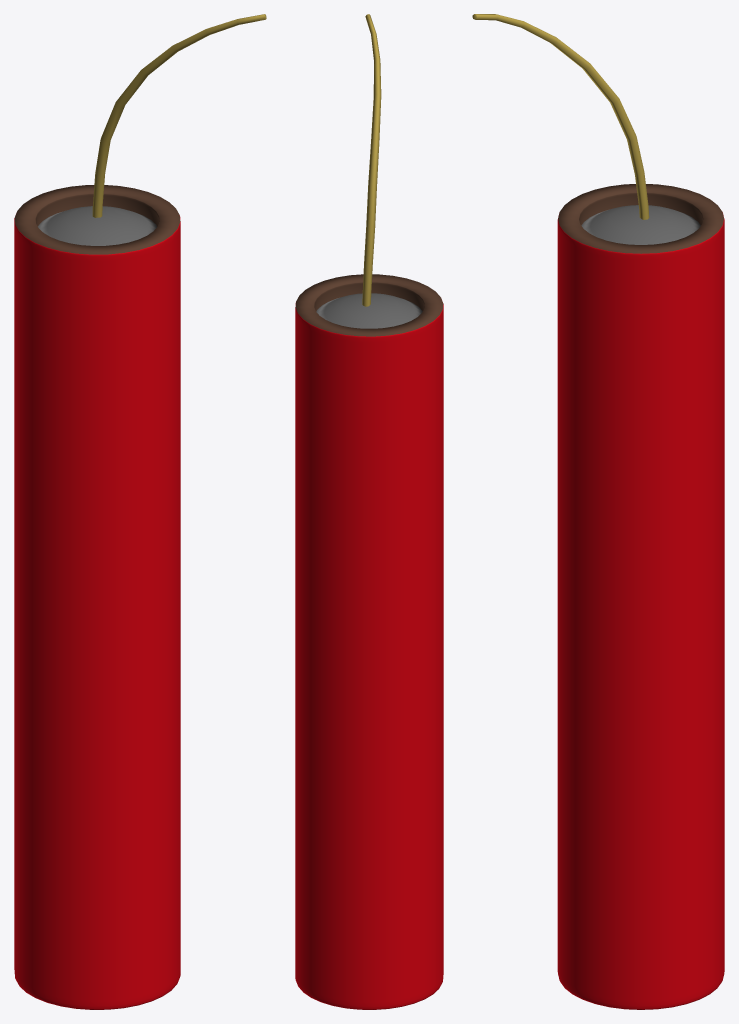
The model's file is Petarda.fbx.
3 renders of one model, left to right at view 1: azimuth 30°, elevation 25°; view 2: azimuth 150°, elevation 25°; view 3: azimuth 270°, elevation 25°, orthographic. The views are drawn at different scales.
Visible parts, largest first — view 1: Cylinder; view 2: Cylinder; view 3: Cylinder.
Part boxes in pixels (x1=…): Cylinder: x1=14, y1=14, x2=266, y2=1009; Cylinder: x1=295, y1=14, x2=443, y2=1009; Cylinder: x1=472, y1=14, x2=724, y2=1009.
Size of the model in its own units: 2.2 by 13.25 by 3.02.
